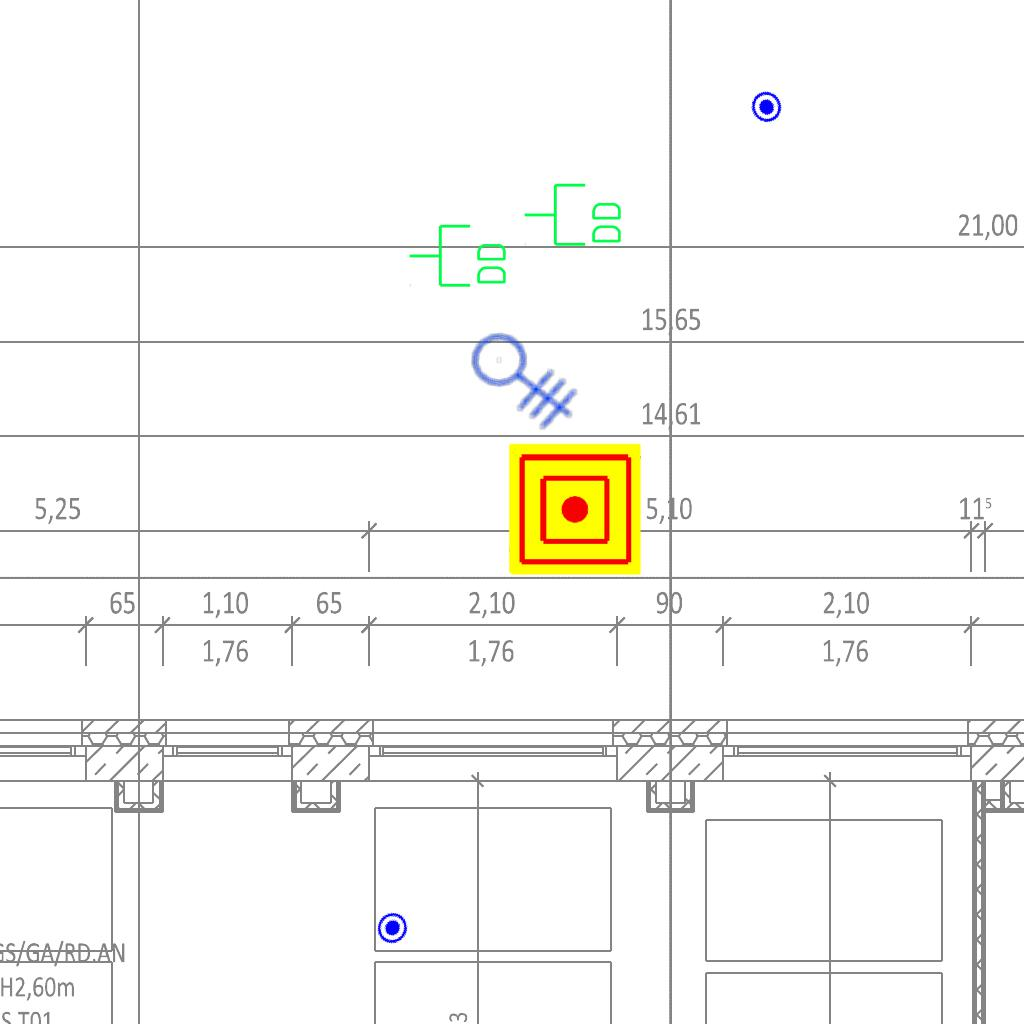Datenanschluss_zweifach: (522, 181, 625, 250), (407, 222, 510, 291)
Elektroanschluss_allgemein_400V_Geraeteanschlussdose_400V: (467, 308, 593, 437)
NAM-Nichtautomatischer_Melder: (509, 443, 641, 575)
Taster: (743, 85, 788, 130), (371, 906, 416, 951)
